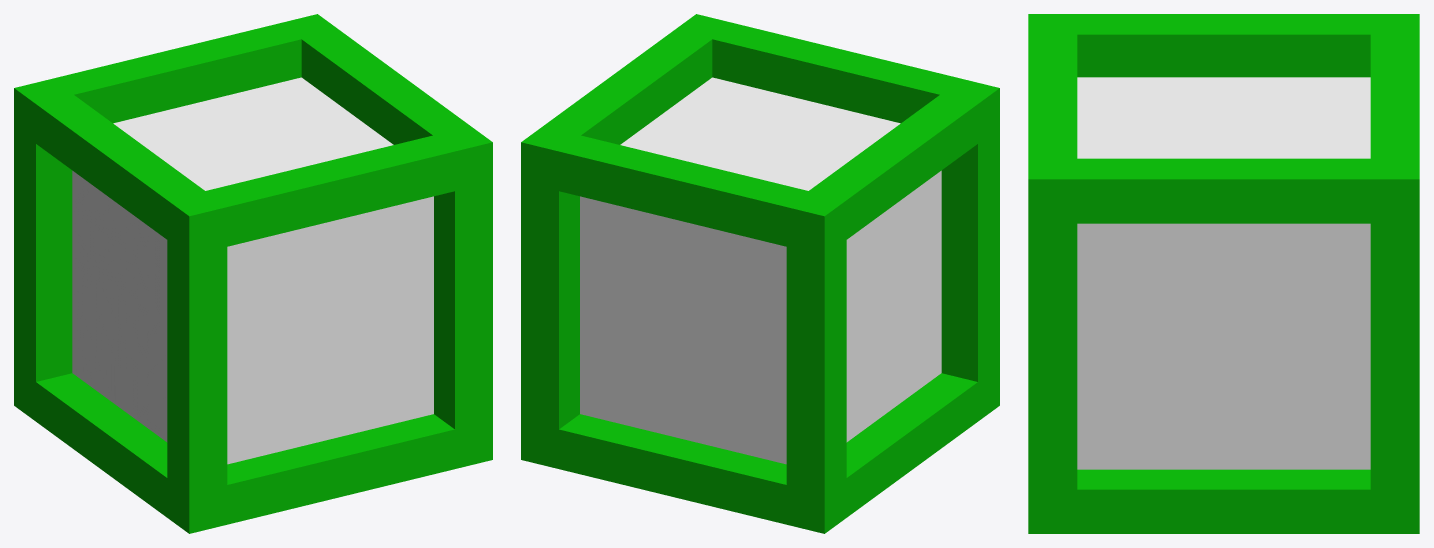
File: block.obj
3 views of the same model, side by side, from view 1: azimuth 30°, elevation 25°; view 2: azimuth 150°, elevation 25°; view 3: azimuth 270°, elevation 25° (orthographic). The views are drawn at different scales.
Parts seen in each view (by area): view 1: Cube; view 2: Cube; view 3: Cube.
Part boxes in pixels (x1=…): Cube: x1=14, y1=14, x2=492, y2=533; Cube: x1=521, y1=14, x2=999, y2=533; Cube: x1=1028, y1=14, x2=1419, y2=533.
Size of the model in its own units: 2 by 2 by 2.
